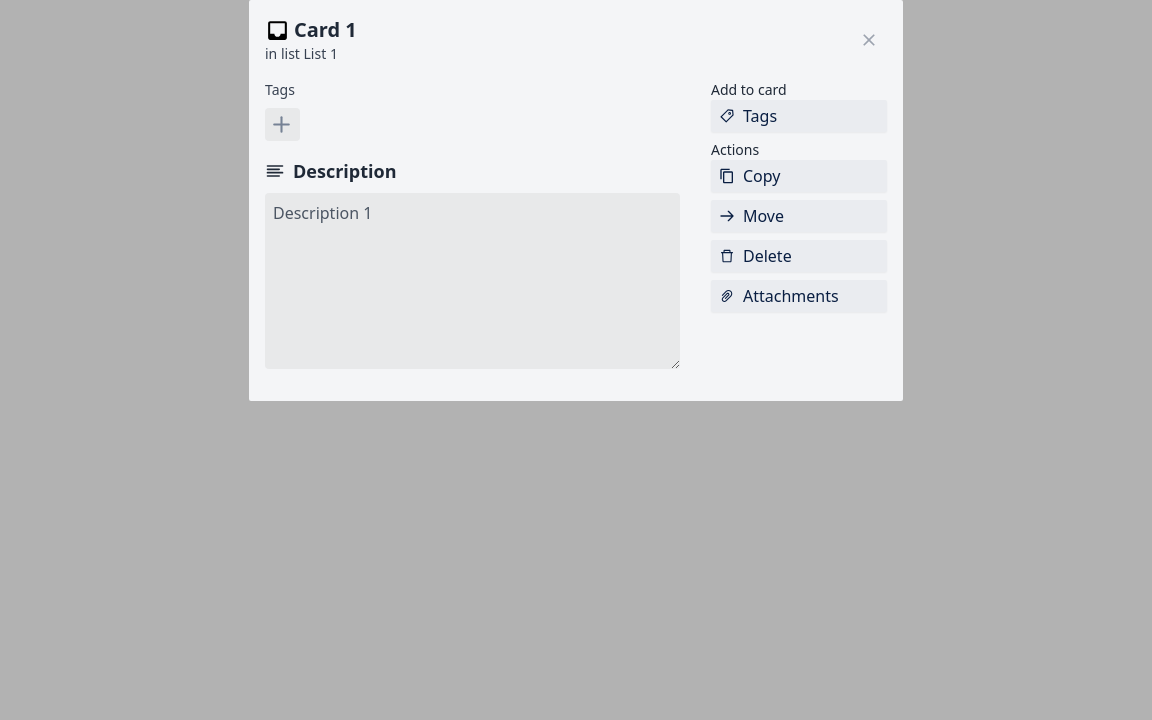
Test case: CardModal › should update card title on enter press
The width and height of the screenshot is (1152, 720).
Click the heading "Card 1" at (325, 30), box [294,16,357,44]
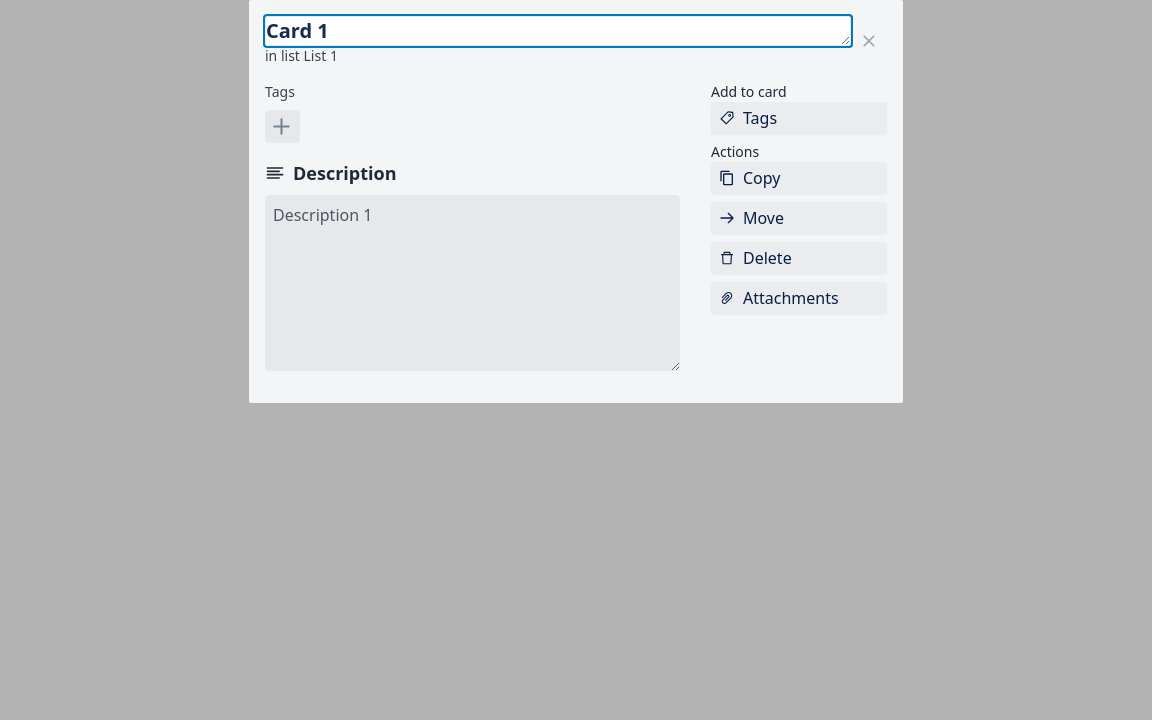
Expected: the 1st text box "Card 1" is shown
Replace the text in the 1st text box "Card 1" with "Updated Title" at (558, 31), box [265,16,851,46]
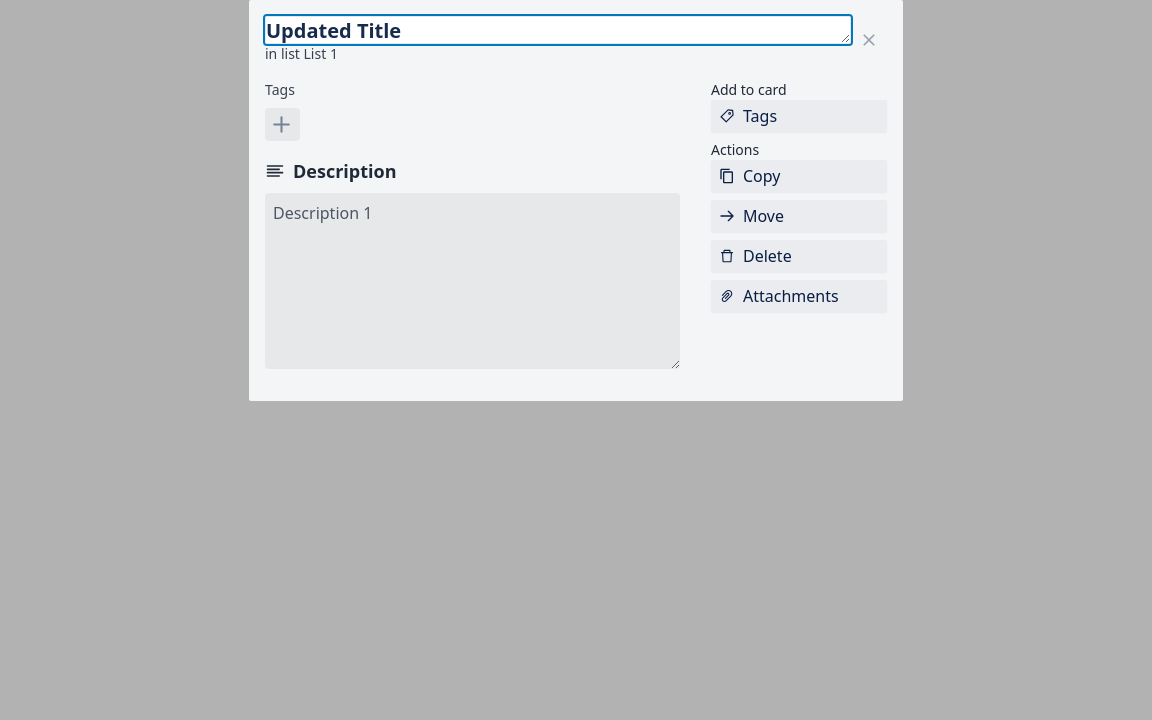
Press Enter in the 1st text box "Card 1", box [265,16,851,44]
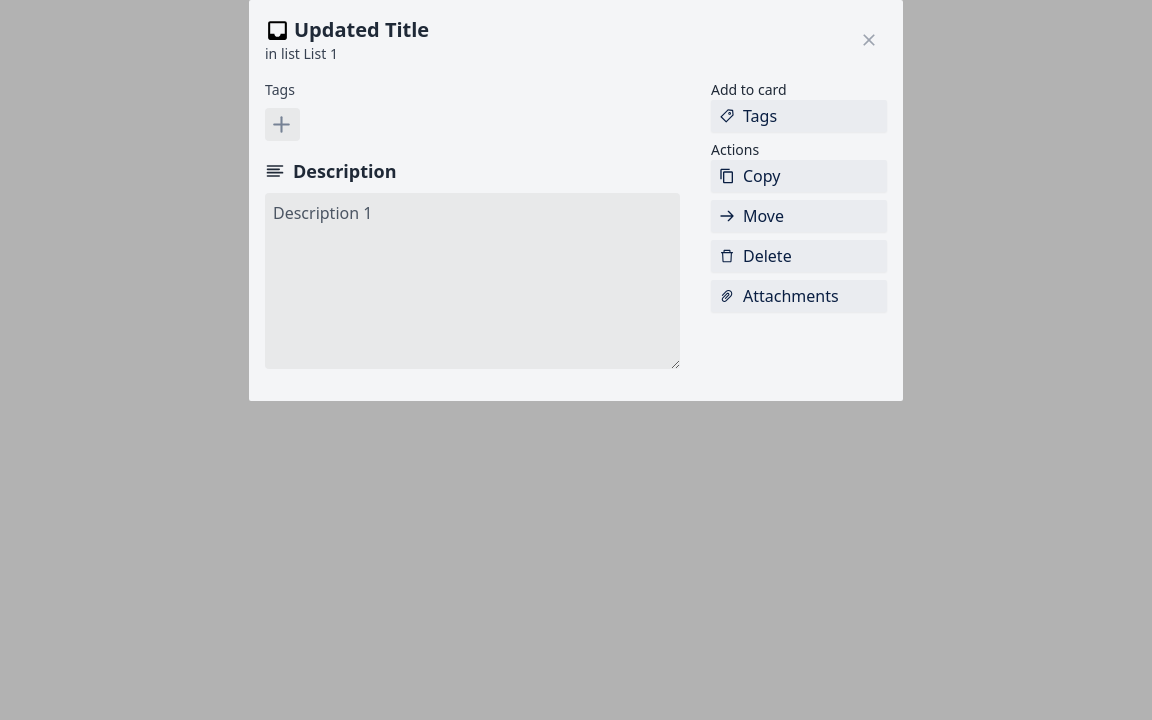
Expected: the heading "Updated Title" is shown, [294,16,429,44]
